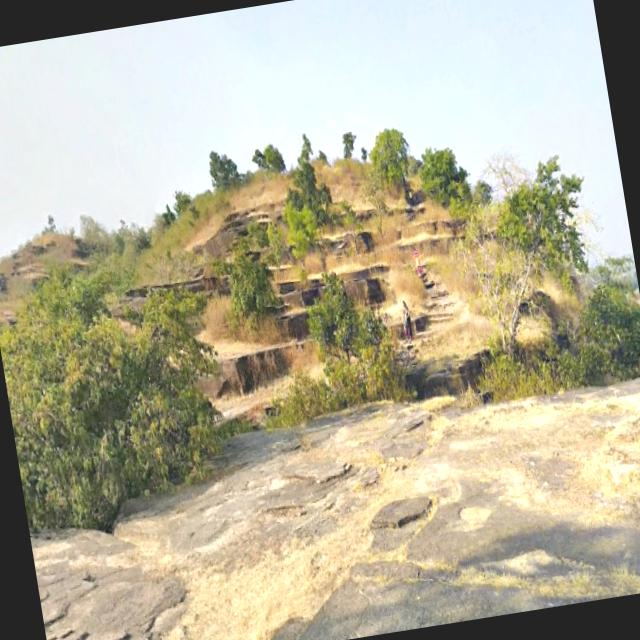objects-ruins-artifacts: (217, 87, 538, 378), (12, 207, 206, 578)
